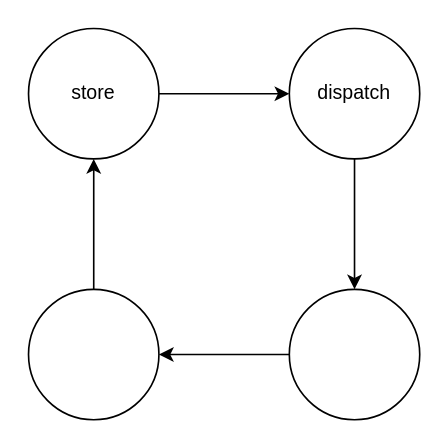
The diagram is 448 pixels wide and 448 high, and some of its shapes have lost their labels. Here are the shapes that lost their labels. From the top down, the centre of each, then its label:
point (93, 354): state
point (354, 354): action
